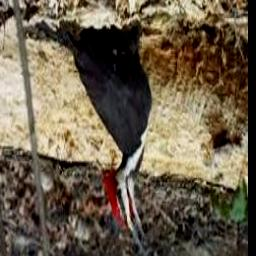Woodpecker: (35, 21, 153, 251)
